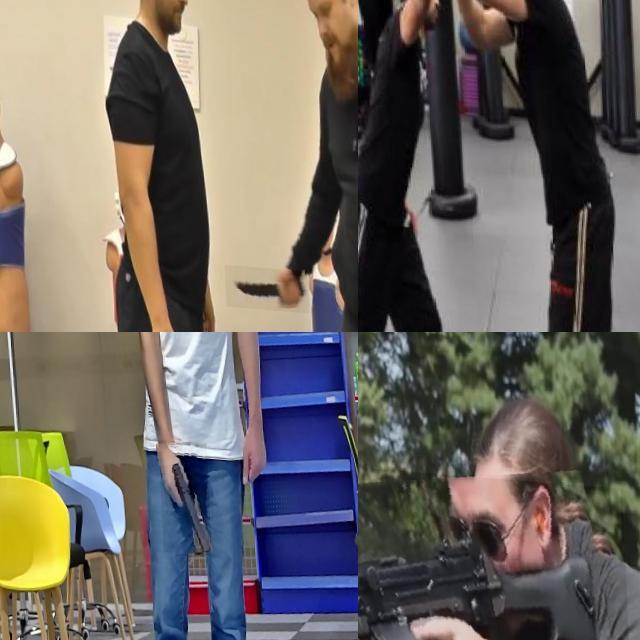-: (220, 261, 306, 308), (414, 0, 492, 37)
gun-knife-thesis - v11 Yolov5 augmented: (358, 446, 634, 640), (156, 434, 208, 550)
